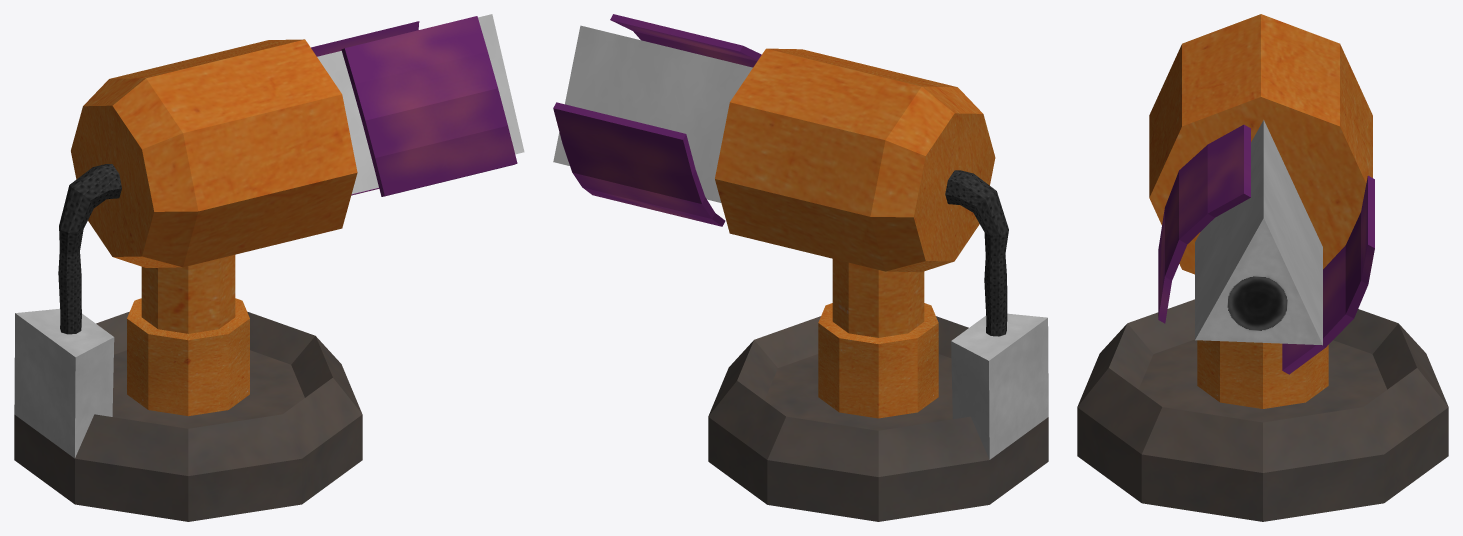
The model's file is TorreDanoArea2.fbx.
3 views of the same model, side by side, from view 1: azimuth 30°, elevation 25°; view 2: azimuth 150°, elevation 25°; view 3: azimuth 270°, elevation 25° (orthographic). The views are drawn at different scales.
Parts seen in each view (by area): view 1: Plane; view 2: Plane; view 3: Plane.
Boxes of the visible parts, x1=… form: Plane: x1=14, y1=14, x2=524, y2=521; Plane: x1=553, y1=14, x2=1048, y2=521; Plane: x1=1077, y1=14, x2=1448, y2=521.
Size of the model in its own units: 505 by 410 by 340.
